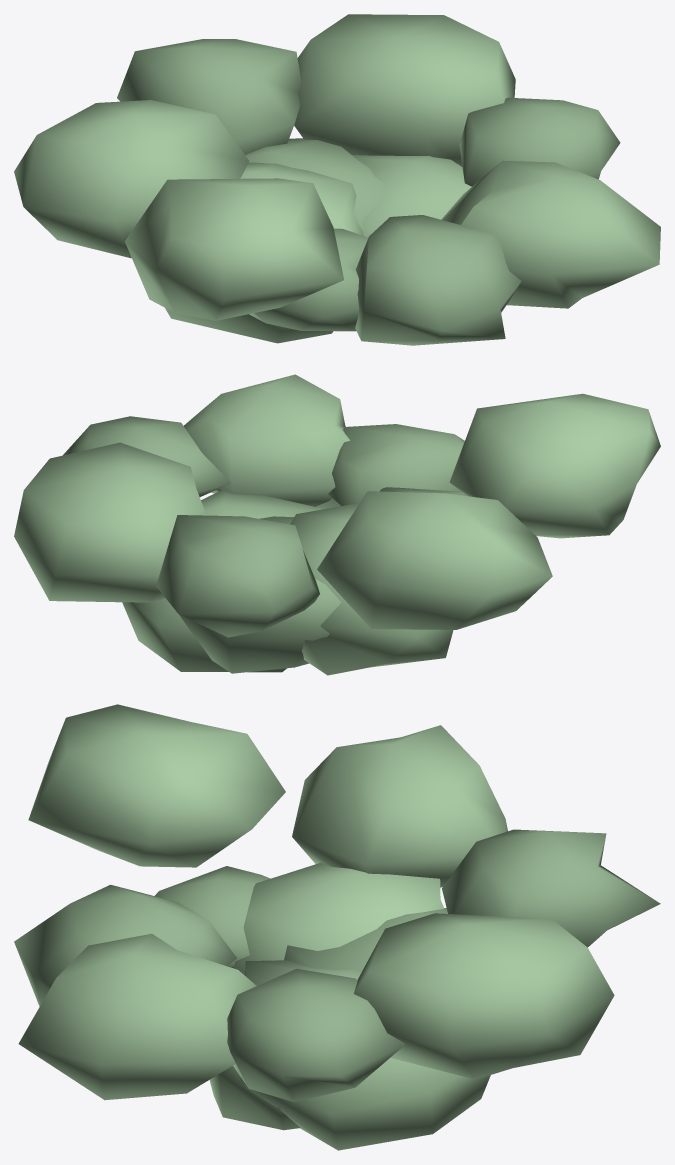
The model's file is succulent_1.glb.
The picture shows the model from 3 angles, top to bottom: view 1: azimuth 30°, elevation 25°; view 2: azimuth 150°, elevation 25°; view 3: azimuth 270°, elevation 25°; orthographic projection. The views are drawn at different scales.
Visible parts, largest first — view 1: succulent; view 2: succulent; view 3: succulent.
Part boxes in pixels (box(x1,y1,x2,y2)): succulent: box(14, 14, 660, 345); succulent: box(14, 374, 660, 675); succulent: box(14, 704, 660, 1150).
Size of the model in its own units: 0.4044 by 0.1744 by 0.384.
